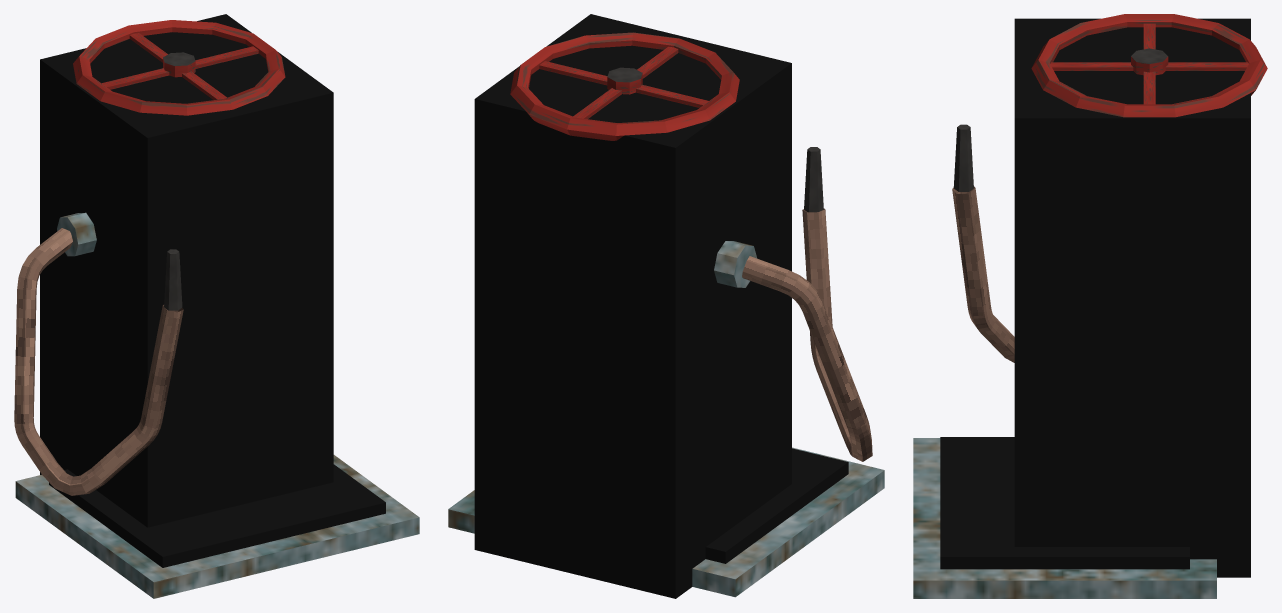
Rendered from depot_valve.fbx.
3 renders of one model, left to right at view 1: azimuth 30°, elevation 25°; view 2: azimuth 150°, elevation 25°; view 3: azimuth 270°, elevation 25°, orthographic. The views are drawn at different scales.
Visible parts, largest first — view 1: col_post, depot_valve, wheel; view 2: col_post, depot_valve, wheel; view 3: col_post, depot_valve, wheel.
Part boxes in pixels (x1,y1,x2,y2): col_post: (40, 14, 333, 527); depot_valve: (14, 212, 419, 598); wheel: (73, 20, 285, 115); col_post: (474, 14, 791, 598); depot_valve: (448, 147, 884, 597); wheel: (510, 32, 739, 140); col_post: (1014, 18, 1250, 577); depot_valve: (913, 124, 1216, 598); wheel: (1031, 14, 1267, 117).
Bounding box in the file's own units: 1.23 × 1.54 × 1.05.
Materials: 3 (3 with a texture image).
